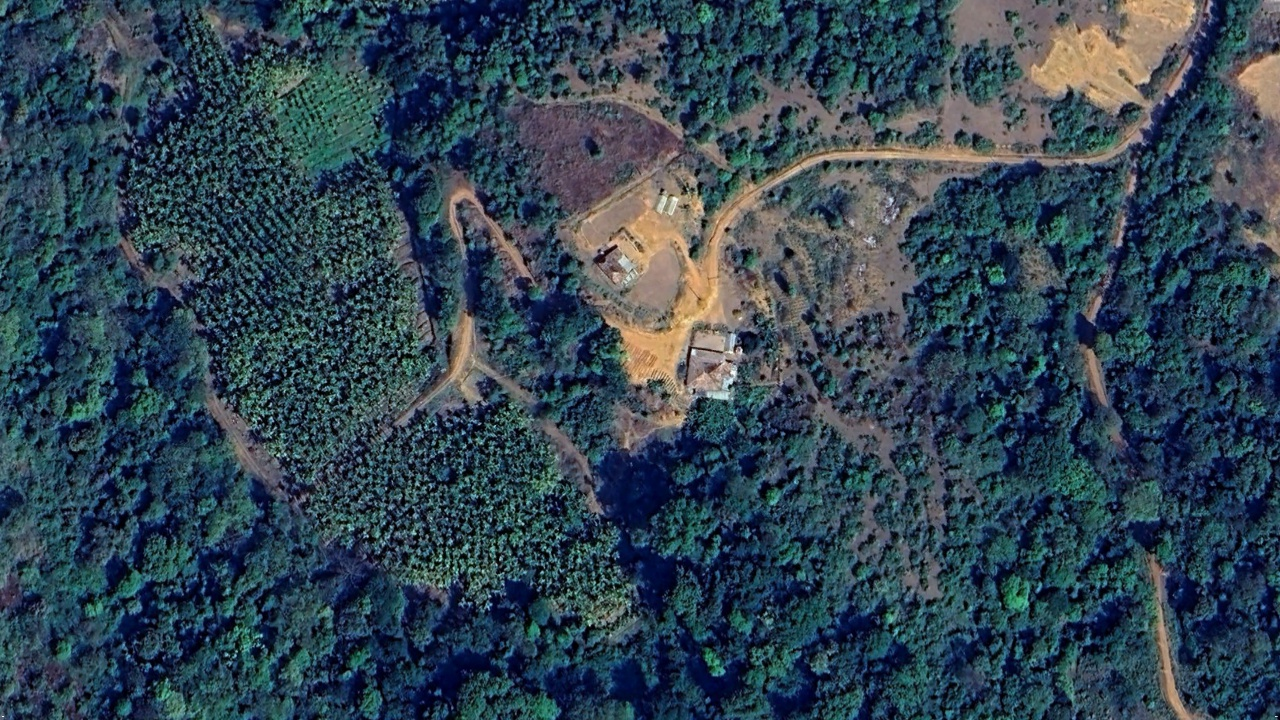arecanut: (116, 9, 633, 621)
